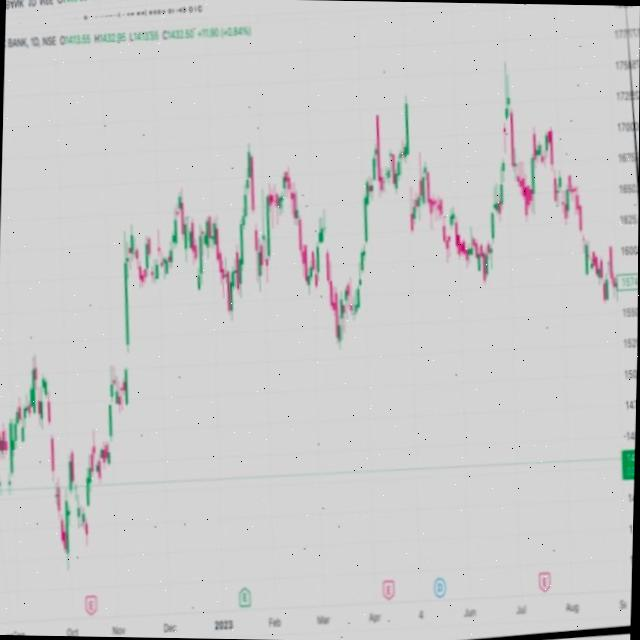Gap Down: (47, 436, 64, 514), (577, 203, 591, 272), (45, 398, 58, 472), (547, 126, 559, 204), (55, 477, 65, 539)
Gap Up: (118, 259, 135, 406), (496, 97, 509, 200), (357, 192, 372, 274)
